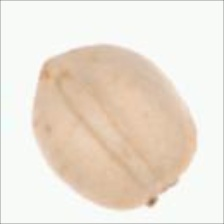L5: (56, 71, 160, 186), (130, 178, 181, 211), (31, 49, 70, 89)
L6: (29, 43, 200, 212)
